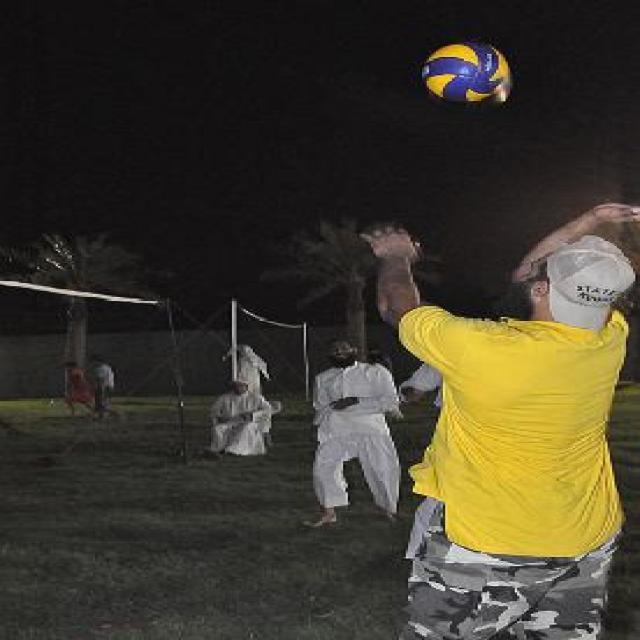volleyball: (423, 41, 509, 104)
